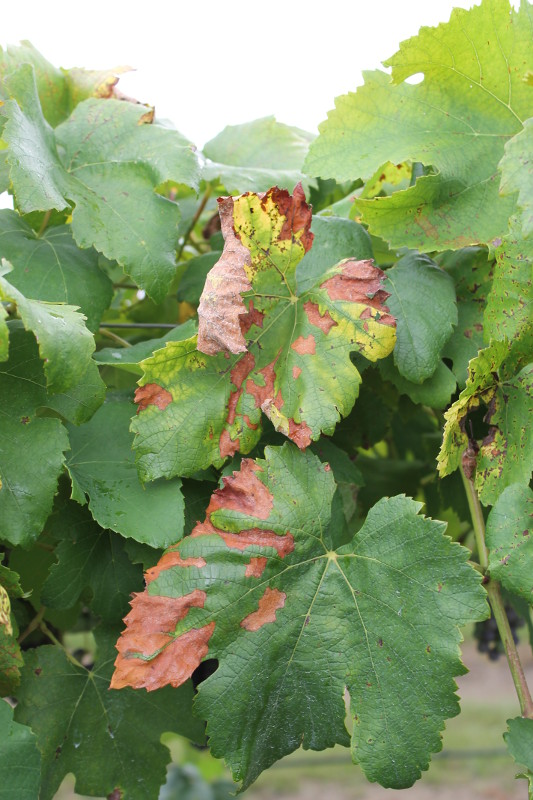downy: (213, 219, 392, 417), (141, 351, 241, 455), (142, 556, 209, 669), (447, 391, 509, 477), (218, 468, 277, 526), (197, 522, 292, 550), (218, 197, 314, 218), (241, 587, 290, 628), (281, 420, 313, 447)
